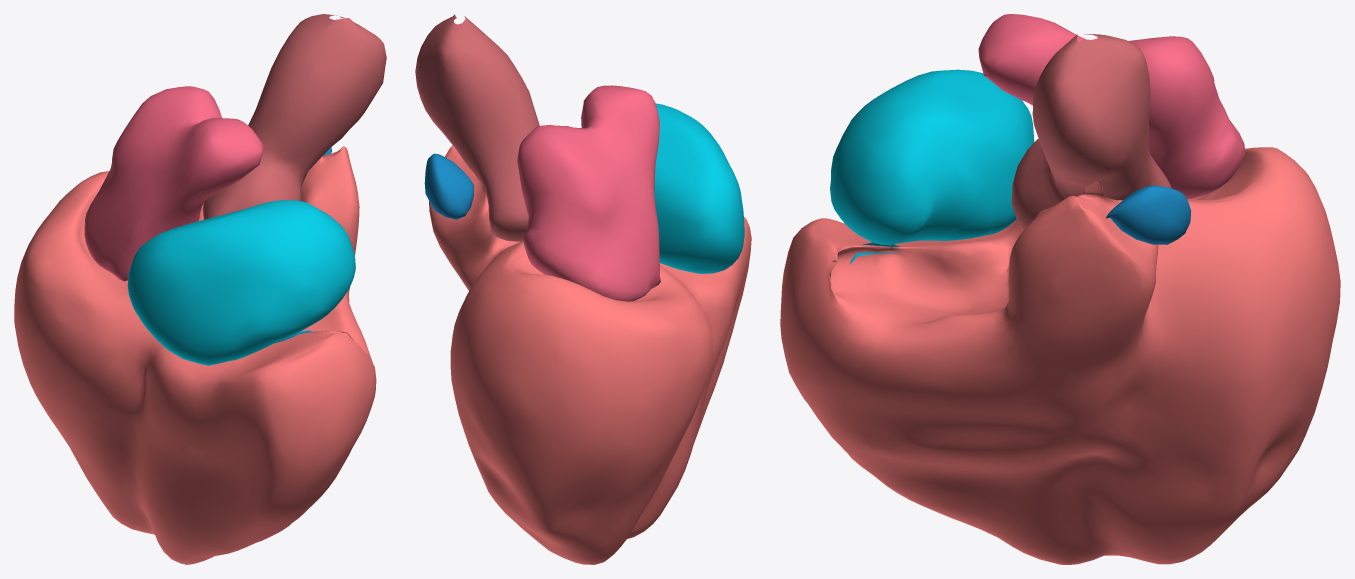
File: frame_61.glb
3 renders of one model, left to right at view 1: azimuth 30°, elevation 25°; view 2: azimuth 150°, elevation 25°; view 3: azimuth 270°, elevation 25°, orthographic. The views are drawn at different scales.
Visible parts, largest first — view 1: Renderer Node; view 2: Renderer Node; view 3: Renderer Node.
Boxes of the visible parts, <box> form: Renderer Node: <box>14,14,386,564</box>; Renderer Node: <box>415,14,751,564</box>; Renderer Node: <box>780,14,1340,564</box>.
Size of the model in its own units: 104 by 158 by 128.
